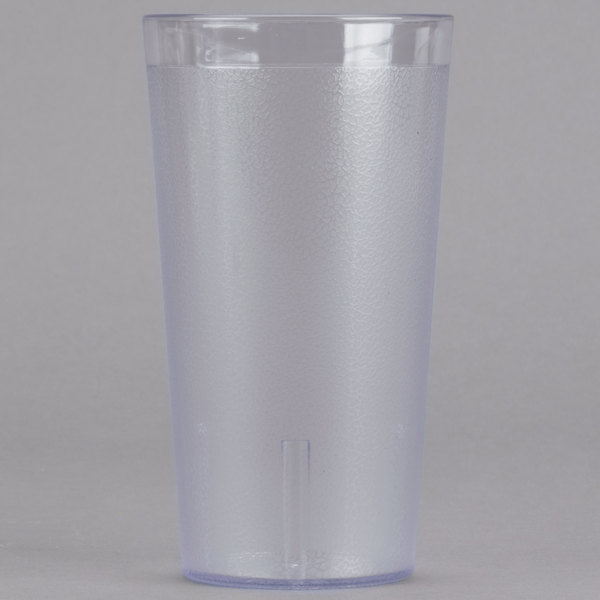plastic_glass: (119, 3, 503, 584)
